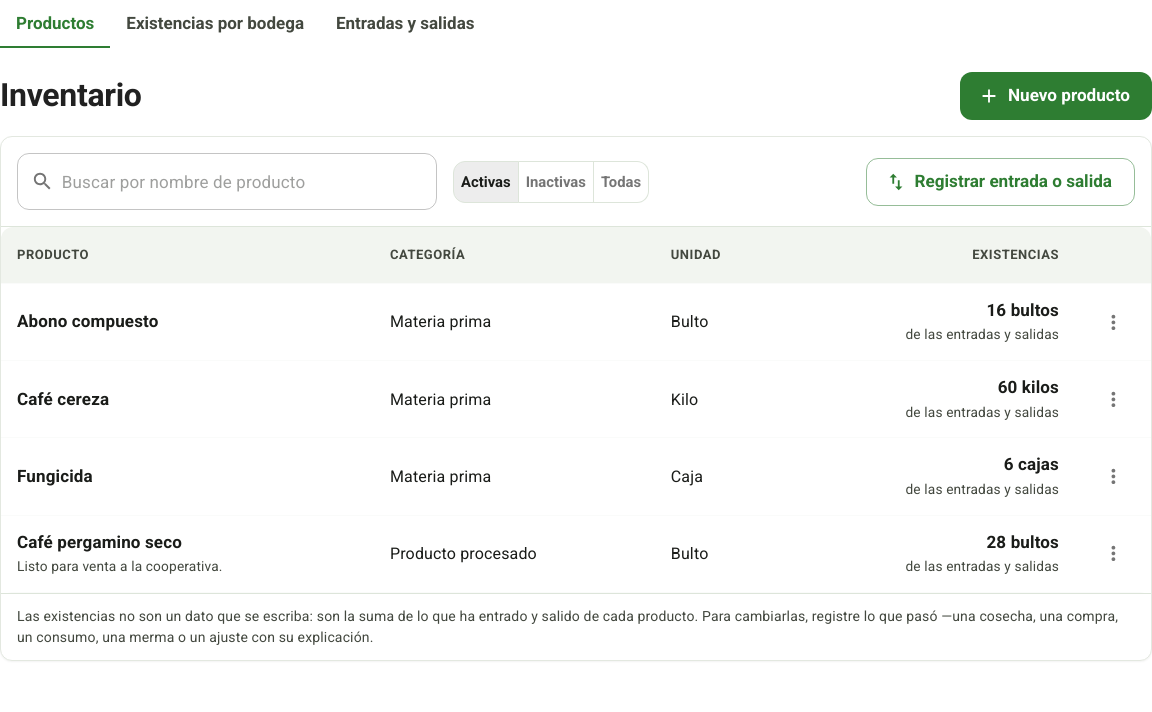
Test case: the stickers of an entry › opens the existing sheet and closes it
This screenshot has width=1152, height=712.
Expected: the text "Café pergamino seco" is shown, top-left (17, 532), bottom-right (182, 552)
What coordinates should you click on to do the following:
click the tab "Entradas y salidas"
I would click on:
 (405, 24)
Its box is top-left (320, 0), bottom-right (490, 48).
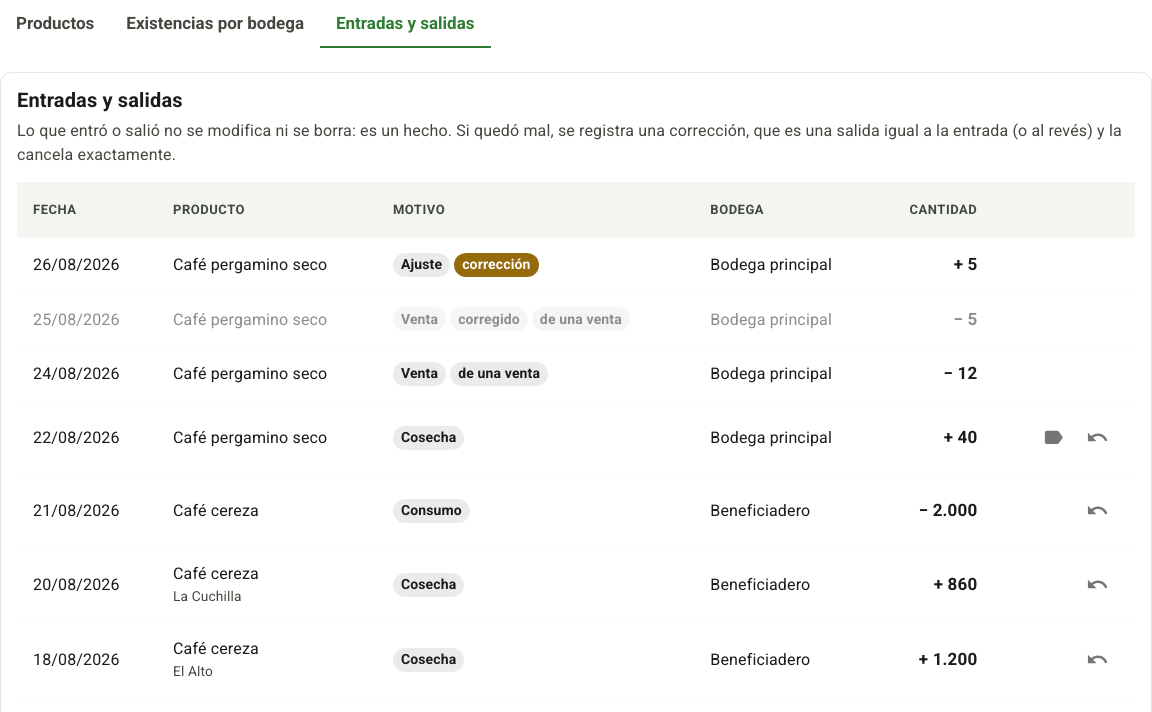
What coordinates should you click on to do the following:
click the button named "Stickers de la entrada de"
I would click on:
 (1053, 438)
Its box is top-left (1031, 416), bottom-right (1075, 460).
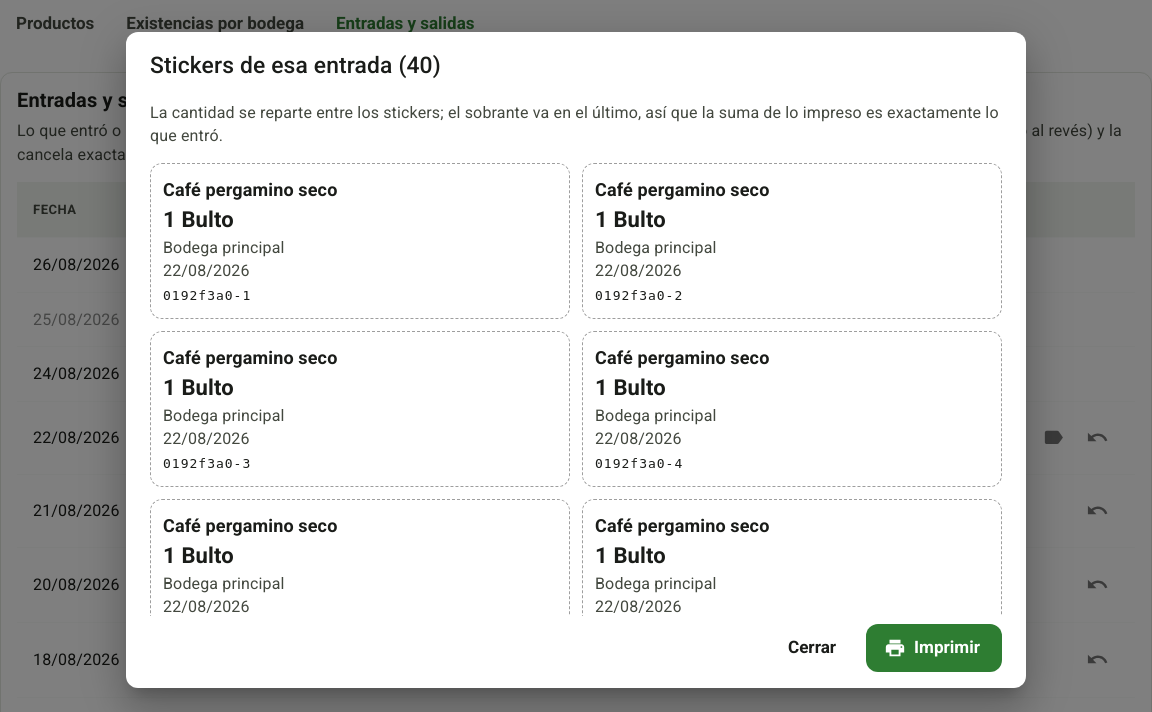
What coordinates should you click on to do the following:
click the button "Cerrar"
I would click on:
 (812, 648)
Its box is top-left (766, 624), bottom-right (858, 672).
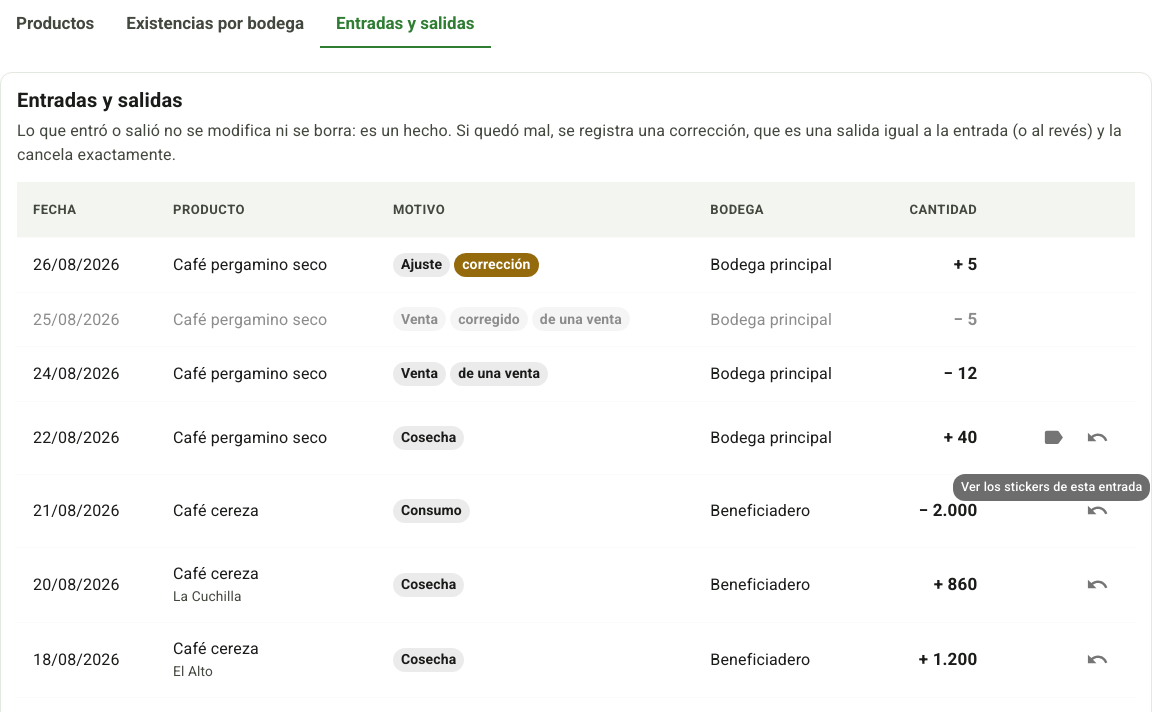
Expected: the dialog is gone
